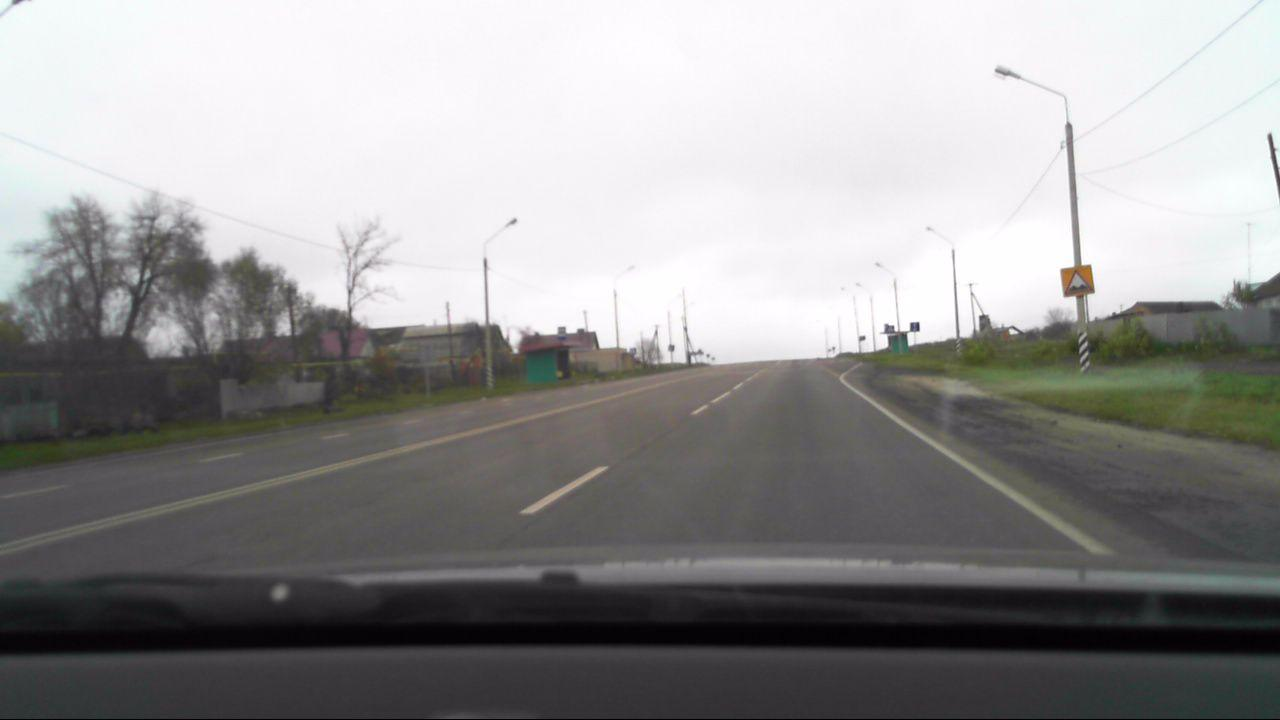1_16: (1058, 264, 1094, 298)
5_14_1: (909, 321, 922, 334)
